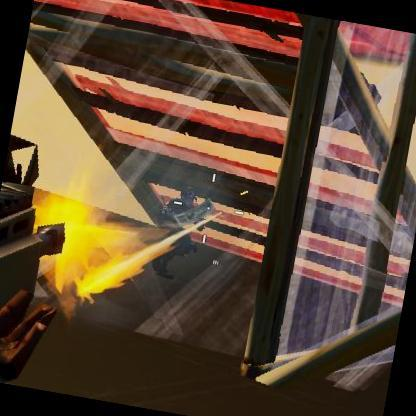person: (155, 188, 198, 264)
